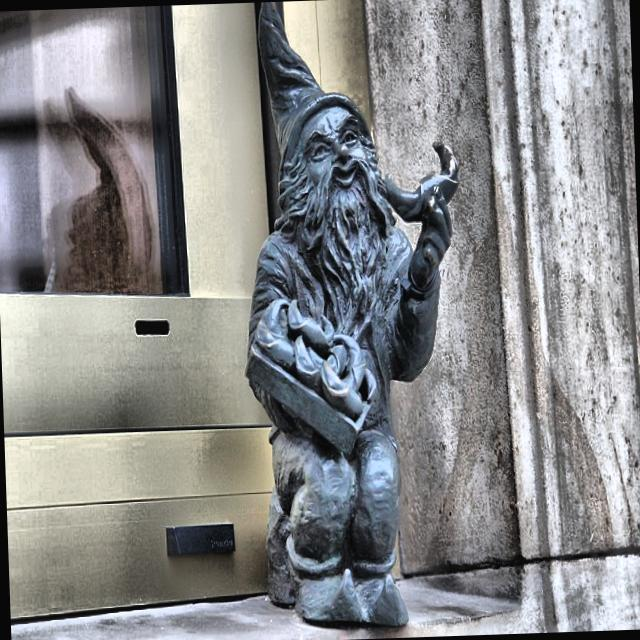Rogalik: (245, 1, 459, 628)
